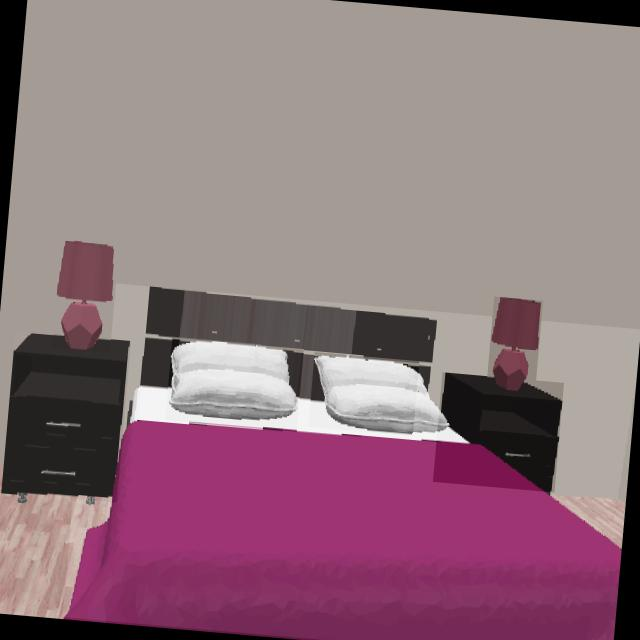bed: (62, 287, 621, 640)
cabinet: (2, 334, 124, 498), (439, 374, 562, 492)
lamp: (56, 241, 115, 351), (490, 297, 541, 390)
pillow: (167, 341, 299, 429), (313, 354, 416, 435)
